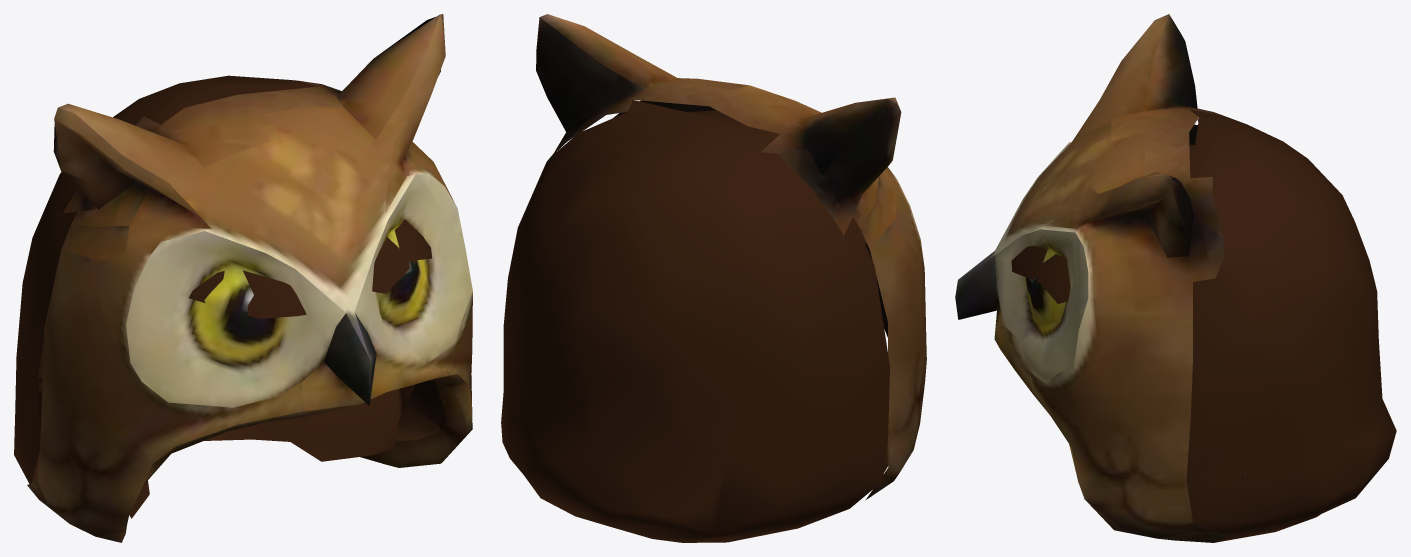
Rendered from owl.glb.
3 renders of one model, left to right at view 1: azimuth 30°, elevation 25°; view 2: azimuth 150°, elevation 25°; view 3: azimuth 270°, elevation 25°, orthographic. The views are drawn at different scales.
Visible parts, largest first — view 1: geometry_0, HoodAnatomicalLining; view 2: geometry_0, HoodAnatomicalLining; view 3: geometry_0, HoodAnatomicalLining.
Part boxes in pixels (x1=…): geometry_0: x1=14, y1=14, x2=472, y2=542; HoodAnatomicalLining: x1=38, y1=219, x2=432, y2=518; geometry_0: x1=501, y1=14, x2=926, y2=542; HoodAnatomicalLining: x1=688, y1=110, x2=866, y2=244; geometry_0: x1=955, y1=14, x2=1396, y2=542; HoodAnatomicalLining: x1=1011, y1=144, x2=1243, y2=480.
Size of the model in its own units: 0.4892 by 0.5198 by 0.5325.
Materials: 2 (1 with a texture image).
